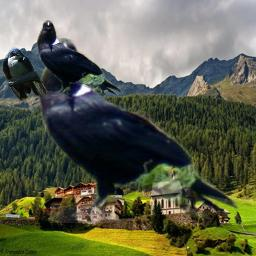Crow: (36, 38, 241, 223), (36, 20, 123, 99)
Swallow: (1, 47, 48, 104)
